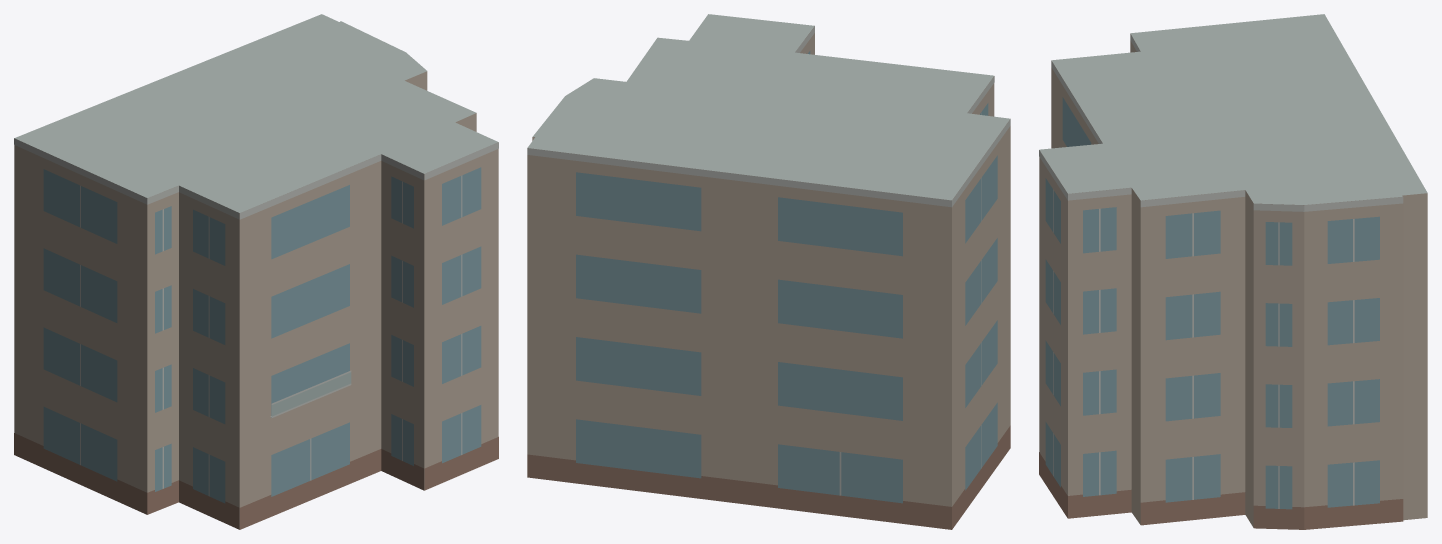
File: survey-upis-32833903.glb
3 views of the same model, side by side, from view 1: azimuth 30°, elevation 25°; view 2: azimuth 150°, elevation 25°; view 3: azimuth 270°, elevation 25° (orthographic). The views are drawn at different scales.
Parts seen in each view (by area): view 1: survey-upis-32833903.tmp; view 2: survey-upis-32833903.tmp; view 3: survey-upis-32833903.tmp.
Part boxes in pixels (x1,y1,x2,y2): survey-upis-32833903.tmp: (14, 14, 498, 529); survey-upis-32833903.tmp: (527, 14, 1010, 529); survey-upis-32833903.tmp: (1039, 14, 1427, 529).
Bounding box in the file's own units: 14.77 × 11.7 × 12.7.
